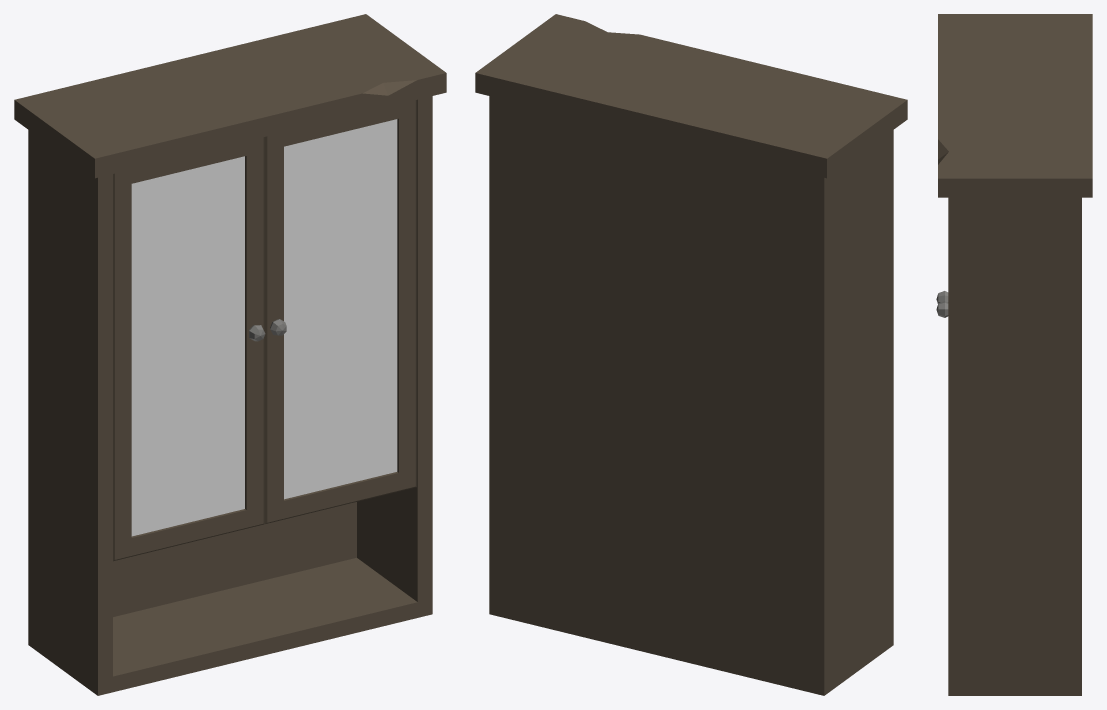
File: SM_Props_Interior_House_Room_Shelf_BookShelf_02.fbx
The picture shows the model from 3 angles, left to right: view 1: azimuth 30°, elevation 25°; view 2: azimuth 150°, elevation 25°; view 3: azimuth 270°, elevation 25°; orthographic projection. The views are drawn at different scales.
Parts seen in each view (by area): view 1: SM_Props_Interior_House_Room_Shelf_BookShelf_02; view 2: SM_Props_Interior_House_Room_Shelf_BookShelf_02; view 3: SM_Props_Interior_House_Room_Shelf_BookShelf_02.
Boxes of the visible parts, x1=… form: SM_Props_Interior_House_Room_Shelf_BookShelf_02: x1=14, y1=14, x2=446, y2=695; SM_Props_Interior_House_Room_Shelf_BookShelf_02: x1=475, y1=14, x2=907, y2=695; SM_Props_Interior_House_Room_Shelf_BookShelf_02: x1=936, y1=14, x2=1092, y2=695.
Bounding box in the file's own units: 93.5 × 138 × 37.46.
